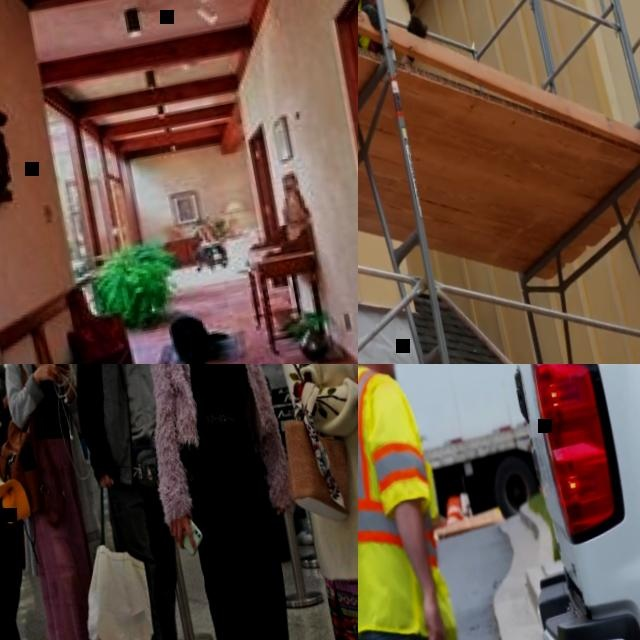NO-Mask: (364, 364, 397, 384)
NO-Safety Vest: (158, 364, 261, 463), (279, 364, 358, 481), (91, 364, 181, 464), (9, 364, 70, 441), (244, 364, 294, 388)
Person: (111, 364, 331, 640), (43, 364, 234, 640), (0, 364, 132, 640), (358, 364, 488, 640), (251, 364, 358, 640), (0, 364, 52, 640), (237, 364, 295, 391), (0, 364, 13, 407)
Safety Cone: (442, 495, 463, 525)
Safety Vest: (358, 364, 462, 640)
vehicle: (415, 364, 640, 640)
